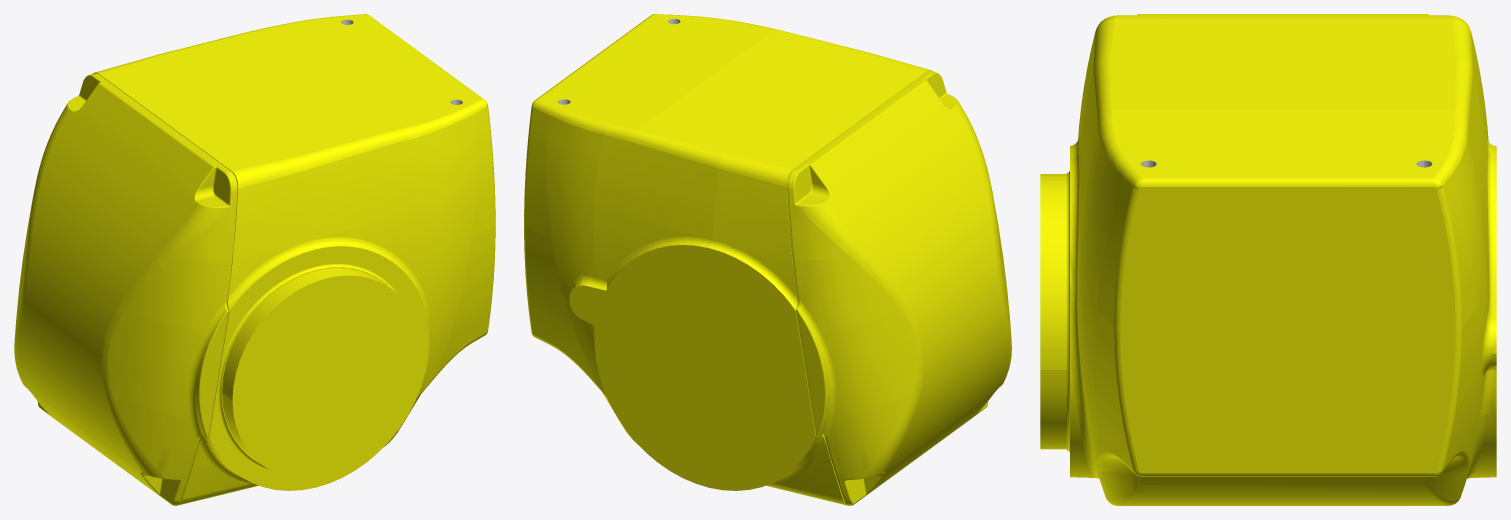
3 views of the same model, side by side, from view 1: azimuth 30°, elevation 25°; view 2: azimuth 150°, elevation 25°; view 3: azimuth 270°, elevation 25° (orthographic). The views are drawn at different scales.
Visible parts, largest first — view 1: Mesh_0; view 2: Mesh_0; view 3: Mesh_0.
Part boxes in pixels (x1,y1,x2,y2): Mesh_0: (14, 14, 495, 505); Mesh_0: (524, 14, 1011, 505); Mesh_0: (1040, 14, 1496, 505).
Bounding box in the file's own units: 0.1633 × 0.139 × 0.1384.
